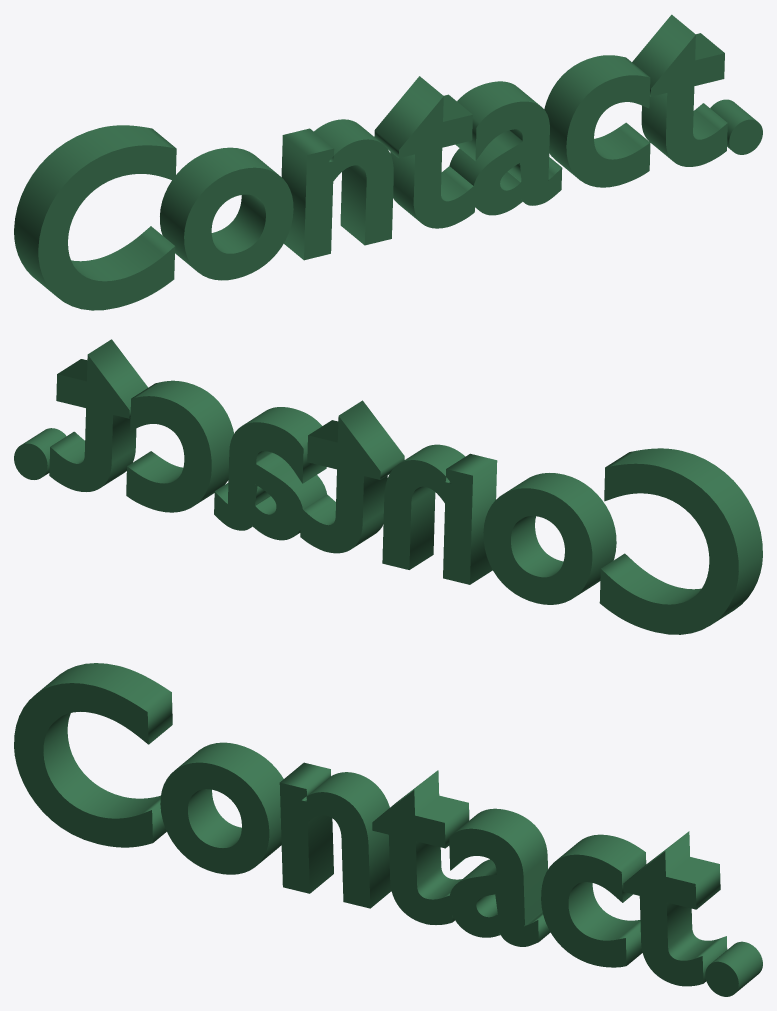
File: contact.glb
3 renders of one model, top to bottom at view 1: azimuth 30°, elevation 25°; view 2: azimuth 150°, elevation 25°; view 3: azimuth 330°, elevation 25°, orthographic.
Visible parts, largest first — view 1: Text; view 2: Text; view 3: Text.
Boxes of the visible parts, left/top/right/bottom form: Text: left=14, top=14, right=762, bottom=310; Text: left=14, top=339, right=762, bottom=634; Text: left=14, top=663, right=762, bottom=996.
Size of the model in its own units: 3.45 by 0.7496 by 0.2388.
